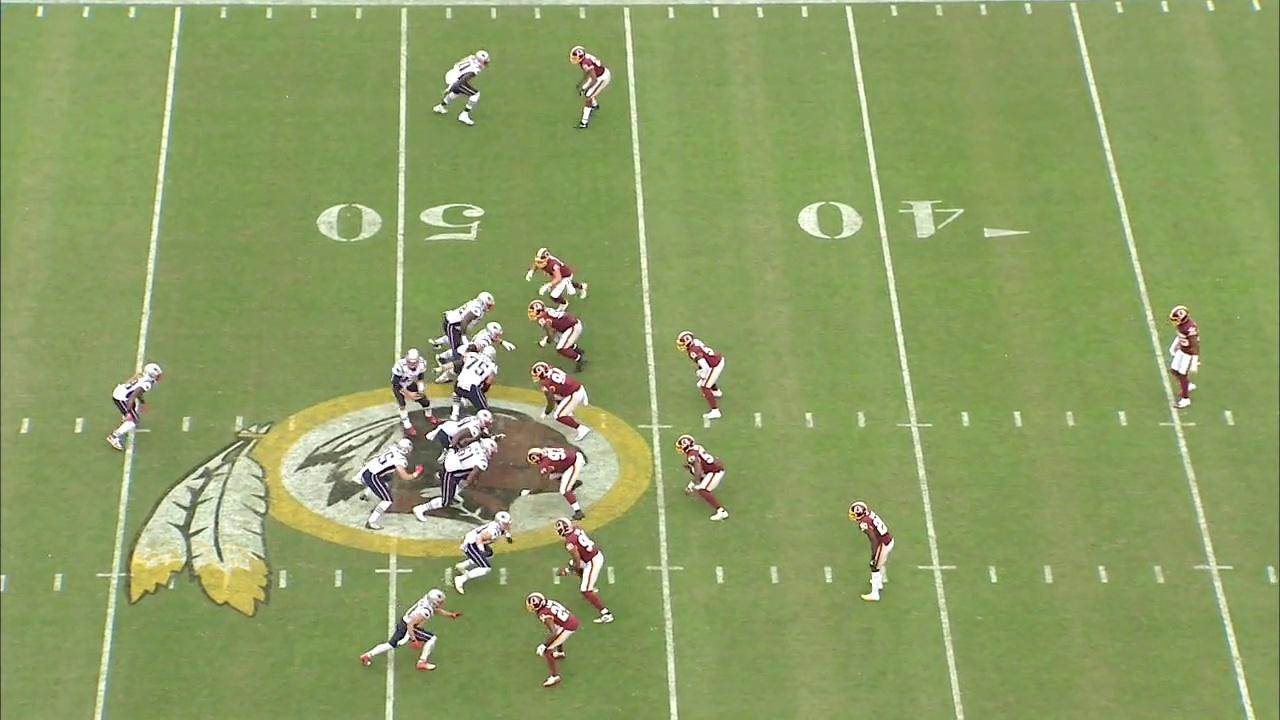player: (352, 587, 459, 675), (547, 520, 622, 627), (417, 437, 497, 520), (101, 359, 167, 456), (360, 436, 420, 536), (529, 363, 600, 447), (522, 590, 583, 687), (429, 42, 497, 127), (518, 445, 591, 522), (675, 432, 734, 525), (436, 321, 515, 385), (849, 501, 896, 607), (455, 511, 515, 594), (525, 302, 590, 377), (394, 341, 443, 439), (679, 328, 729, 422), (1163, 302, 1203, 419), (429, 293, 495, 362), (528, 246, 594, 309), (569, 38, 608, 136), (444, 350, 497, 420), (430, 410, 494, 461)
